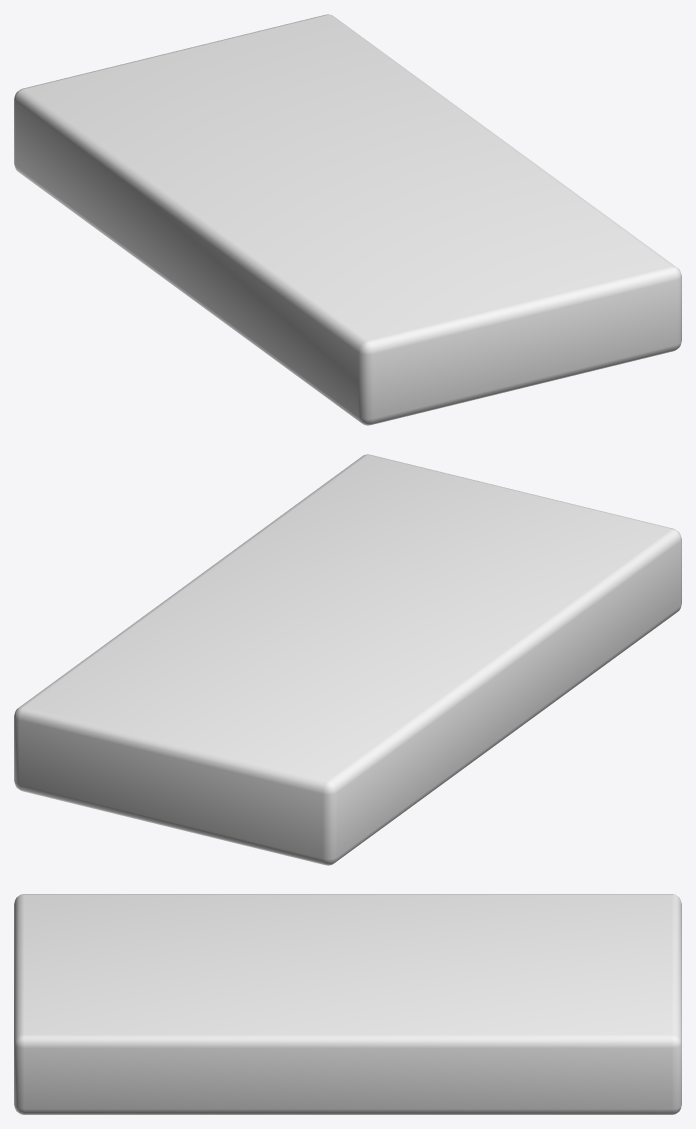
Rendered from Mattress.FBX.
The picture shows the model from 3 angles, top to bottom: view 1: azimuth 30°, elevation 25°; view 2: azimuth 150°, elevation 25°; view 3: azimuth 270°, elevation 25°; orthographic projection. The views are drawn at different scales.
Parts seen in each view (by area): view 1: mattress; view 2: mattress; view 3: mattress.
Part boxes in pixels (x1,y1,x2,y2): mattress: (14,14,681,425); mattress: (14,454,681,865); mattress: (14,894,681,1114).
Size of the model in its own units: 92.65 by 23.13 by 176.
